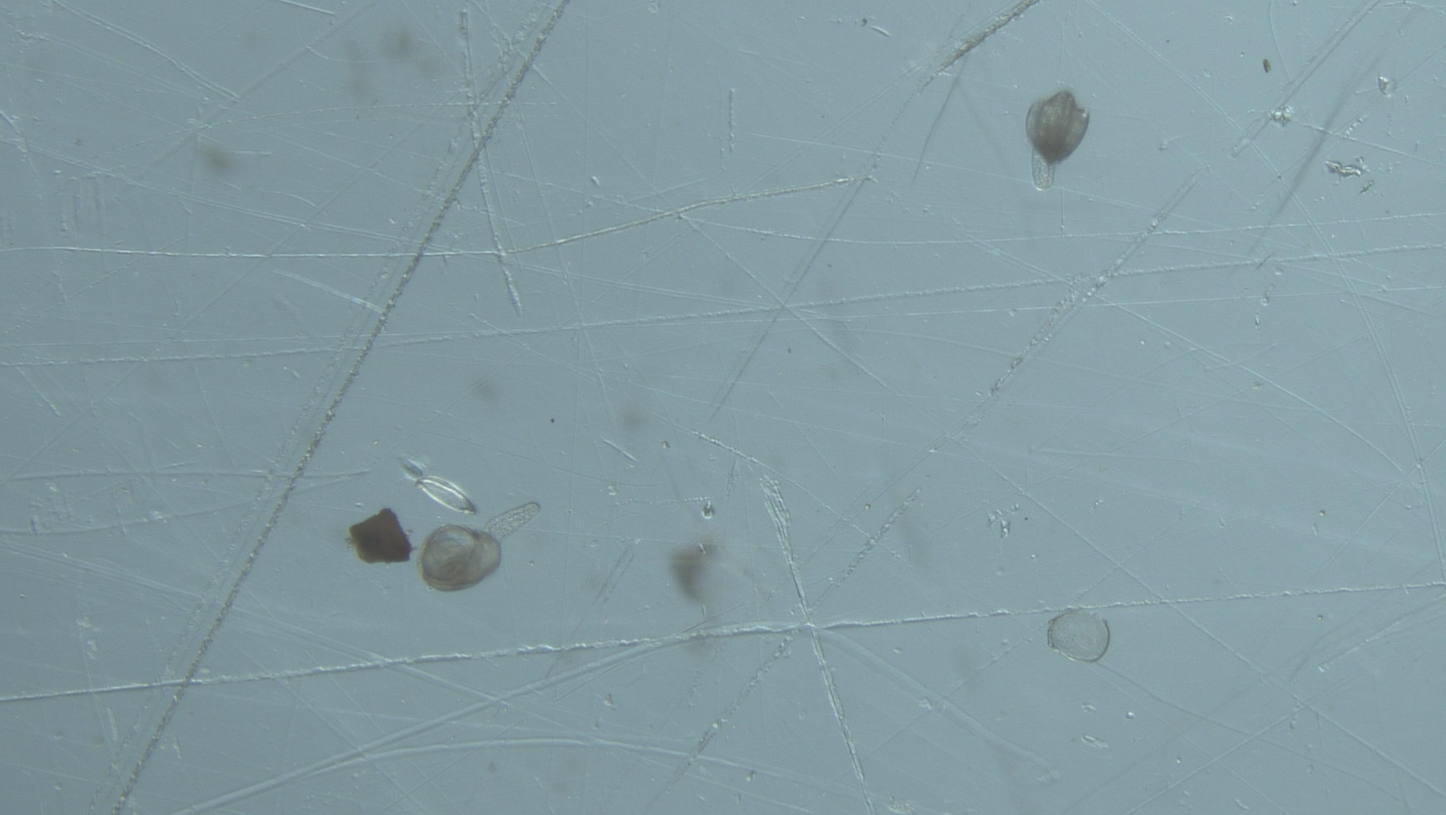dead: (1046, 610, 1111, 664)
live: (418, 503, 540, 592), (1026, 88, 1089, 189)
